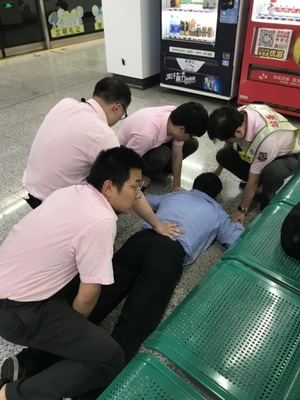bending: (1, 149, 144, 400), (1, 70, 142, 199), (198, 103, 300, 221), (123, 88, 209, 191)
down: (18, 172, 242, 400)
